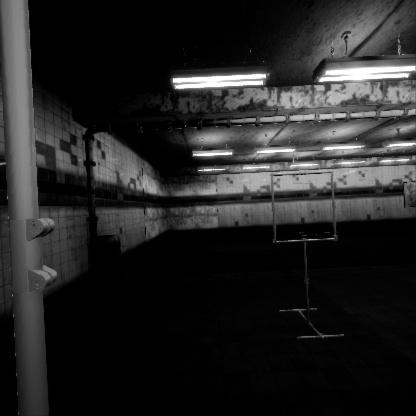gate: (270, 171, 342, 245)
